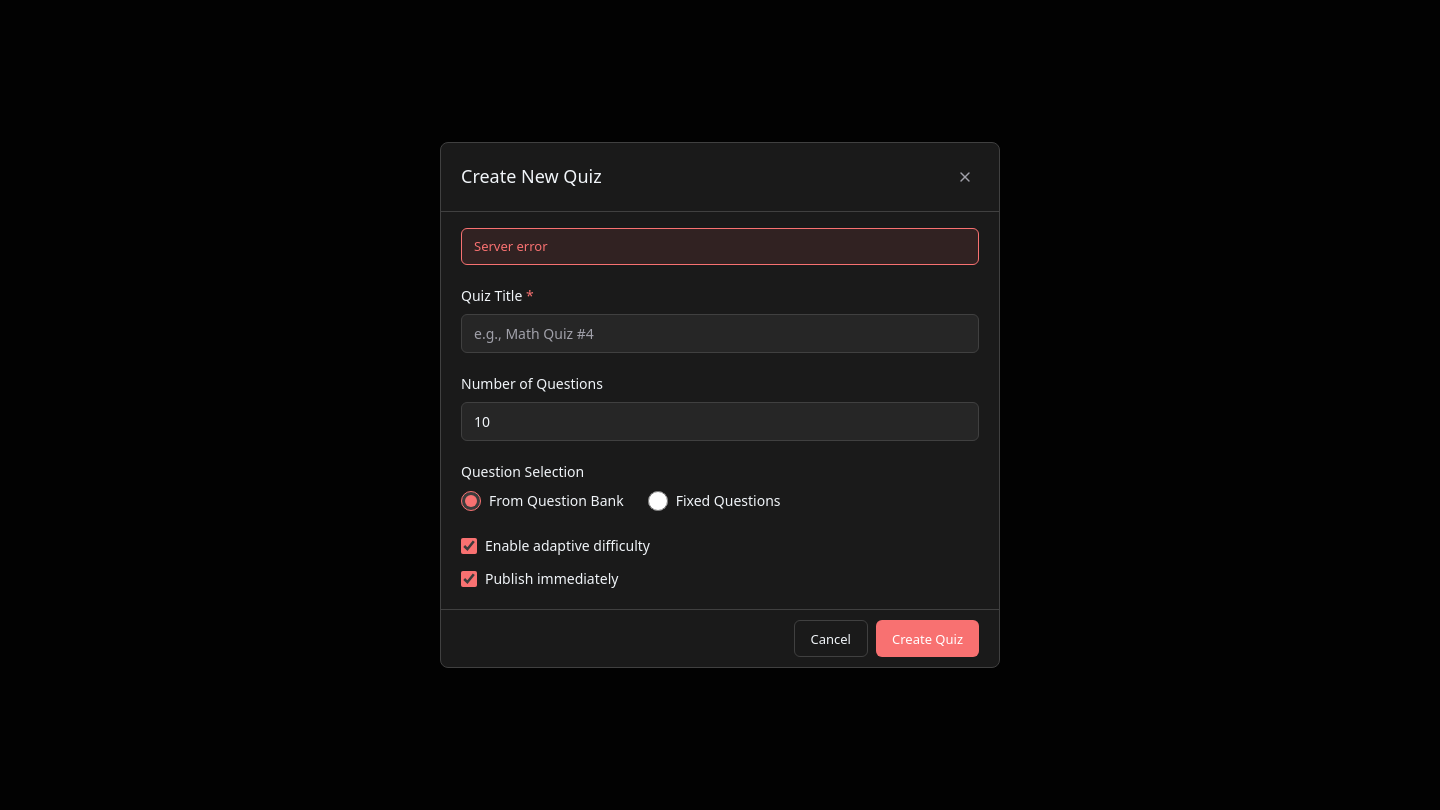
CreateQuizModal › local validation error takes precedence over apiError when submitting without a title
Check: the field labelled "Quiz Title *" is shown, box [461,314,979,353]
Click the button "Create Quiz": [928, 639] box [876,620,979,657]
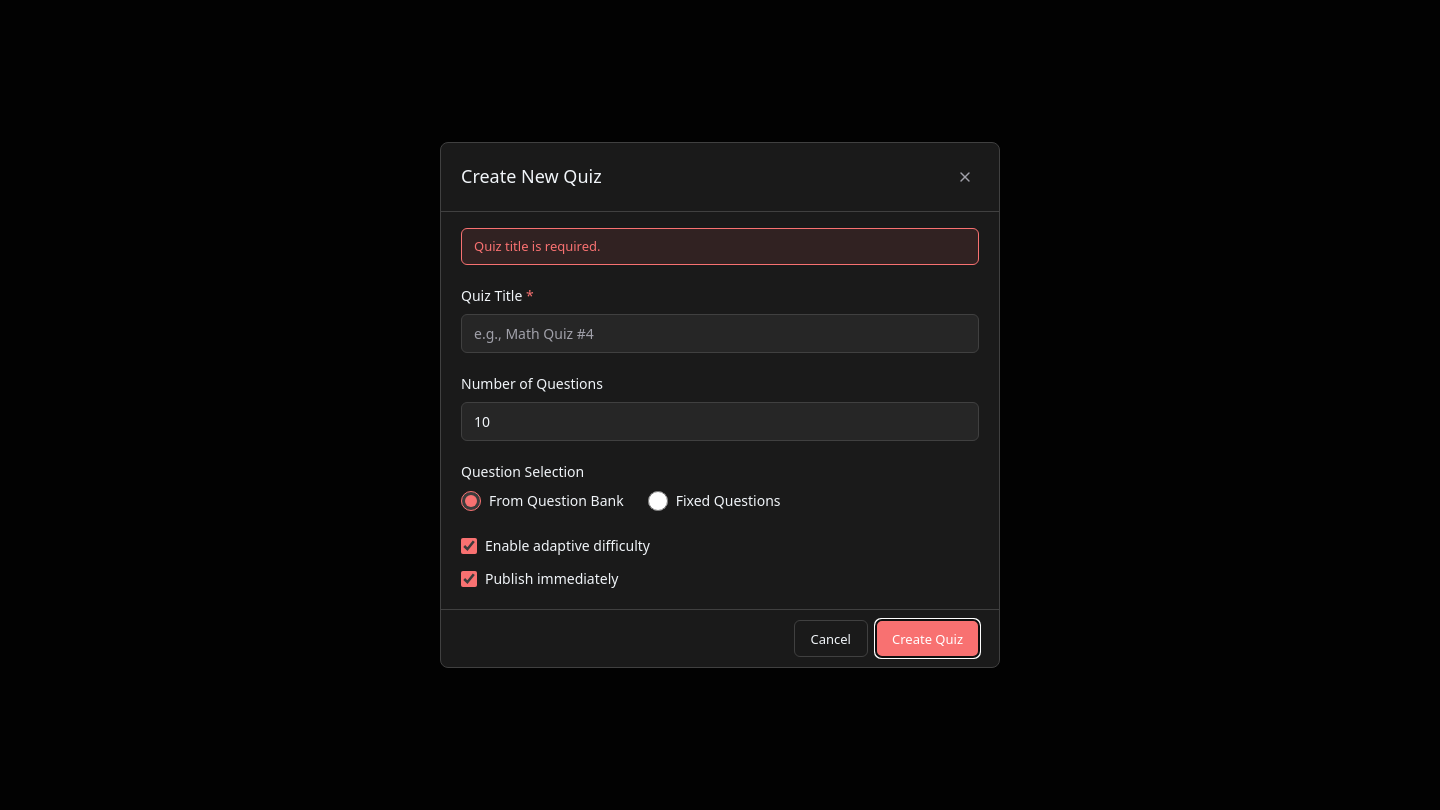
Check: the text "Quiz title is required." is shown, box [461,228,979,265]
Check: the text "Server error" is gone
